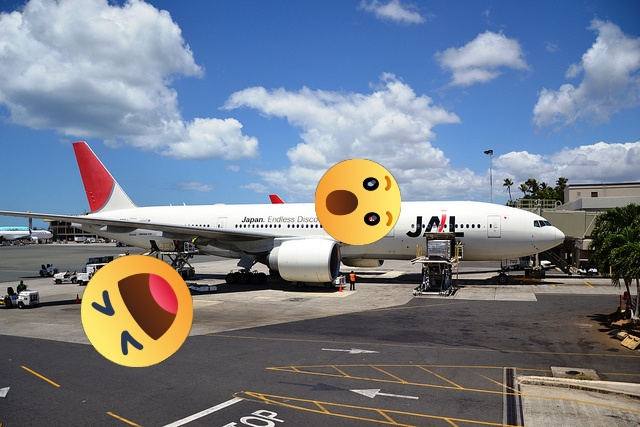haha: (81, 255, 193, 367)
wow: (315, 159, 401, 245)
